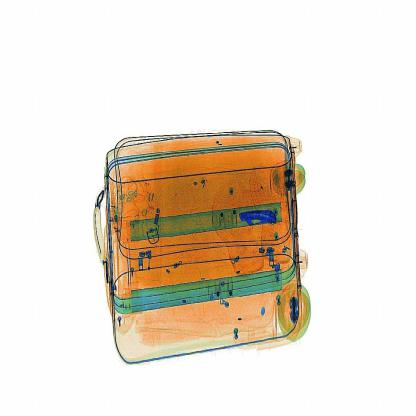knife: (233, 200, 285, 233)
